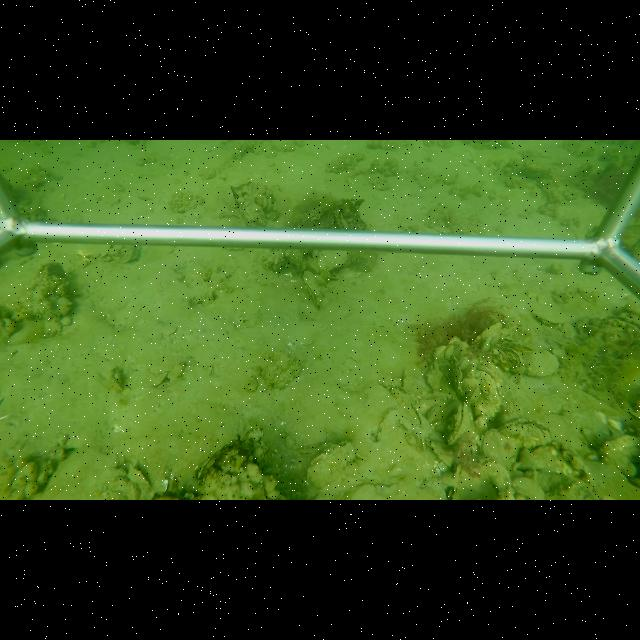Oyster-Closed: (193, 430, 276, 497), (307, 440, 356, 490), (480, 428, 523, 467), (496, 416, 552, 445), (521, 350, 561, 381), (526, 302, 572, 327), (446, 402, 468, 446), (474, 320, 503, 352), (302, 269, 325, 308), (125, 463, 153, 491)
Oyster-Open: (470, 363, 501, 418)
